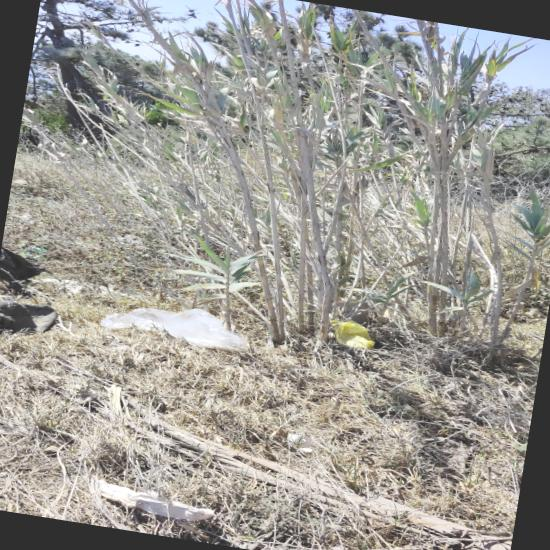Plastic film: (100, 307, 247, 349), (118, 234, 144, 246), (0, 429, 18, 434)
Single-use carrier bag: (331, 320, 374, 349)
Unlabeled litter: (97, 479, 214, 521), (0, 301, 58, 334), (25, 278, 124, 295), (288, 433, 312, 452), (104, 337, 131, 349), (18, 247, 47, 257)
